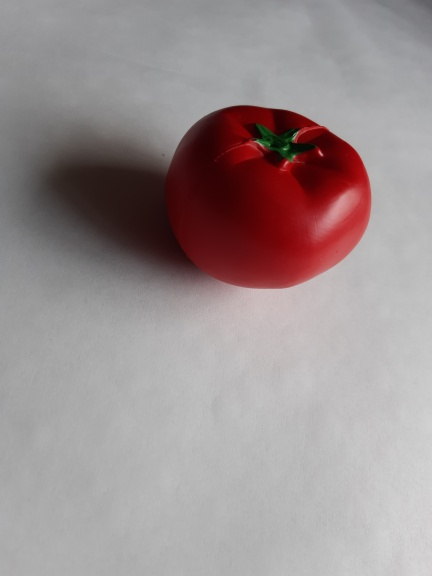tomato: (152, 95, 378, 297)
